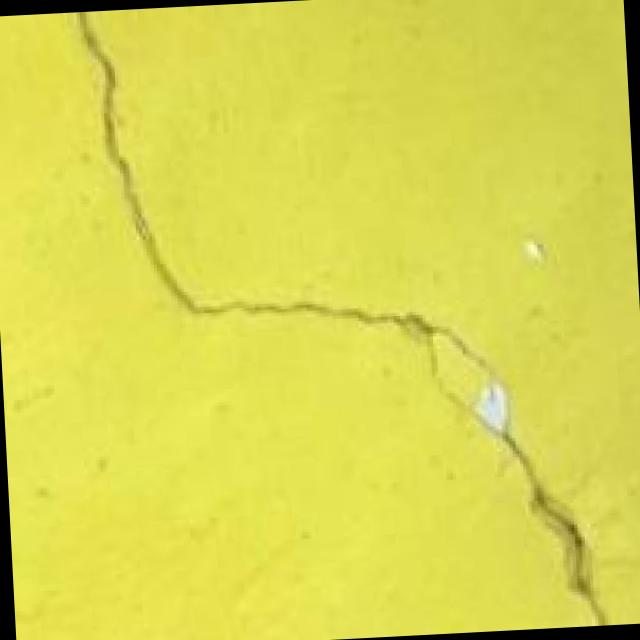crack: (57, 0, 604, 640)
